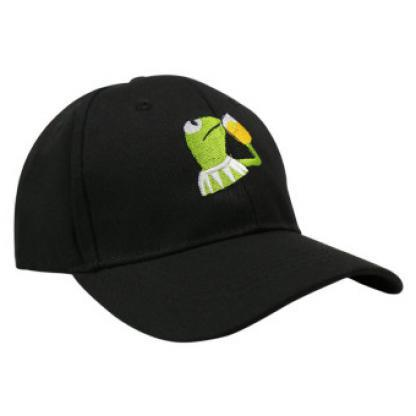cap: (10, 70, 405, 348)
